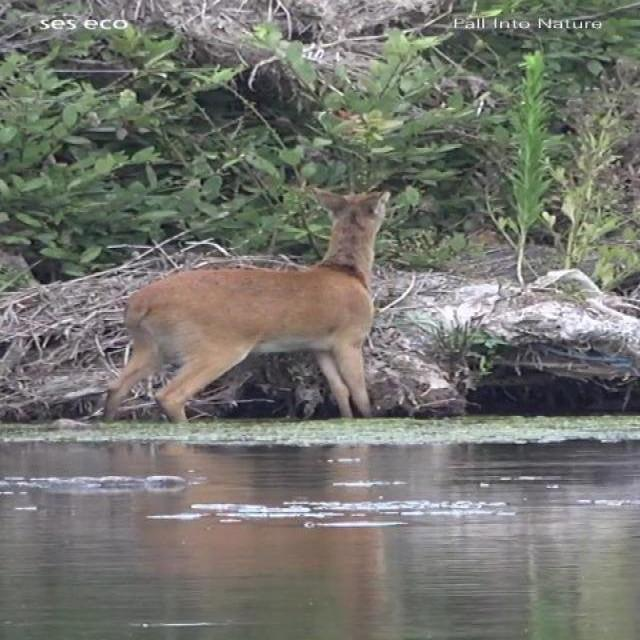deer: (99, 185, 388, 418)
